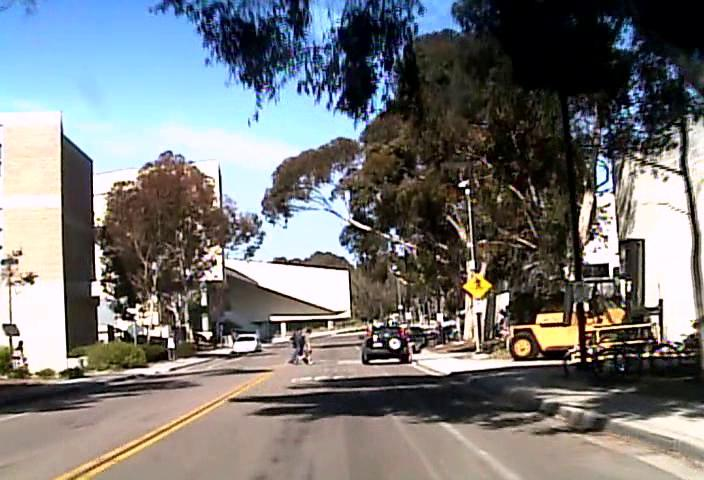pedestrianCrossing: (462, 272, 492, 300)
